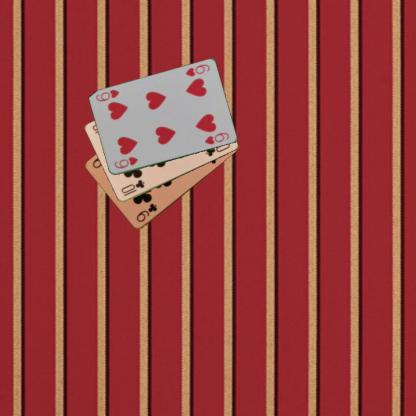10c: (118, 178, 146, 198)
6h: (182, 62, 211, 78), (112, 154, 139, 170)
9c: (134, 201, 158, 224)
